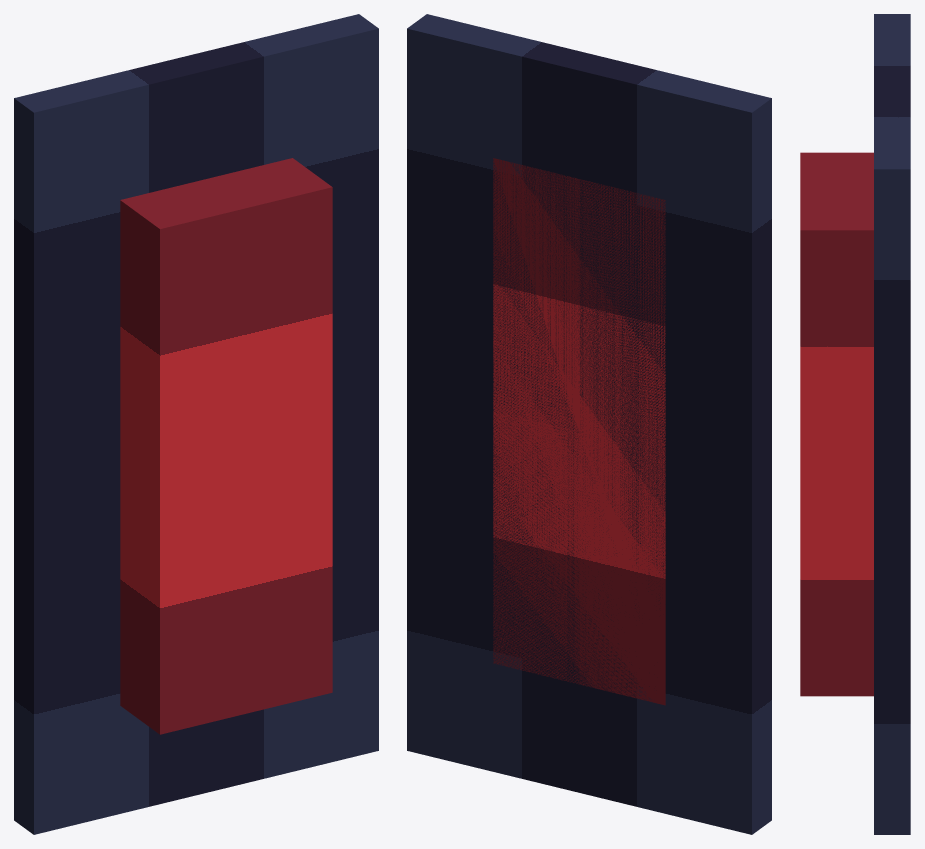
File: Switch.gltf
3 renders of one model, left to right at view 1: azimuth 30°, elevation 25°; view 2: azimuth 150°, elevation 25°; view 3: azimuth 270°, elevation 25°, orthographic. The views are drawn at different scales.
Visible parts, largest first — view 1: SwitchBase, Switch; view 2: SwitchBase, Switch; view 3: Switch, SwitchBase.
Boxes of the visible parts, x1,y1,x2,y2 form: SwitchBase: (14,14,378,834); Switch: (120,158,332,734); SwitchBase: (407,14,771,834); Switch: (493,158,665,705); Switch: (800,152,873,696); SwitchBase: (874,14,910,834).
Size of the model in its own units: 0.2 by 0.4 by 0.06.
Materials: 1 (1 with a texture image).
